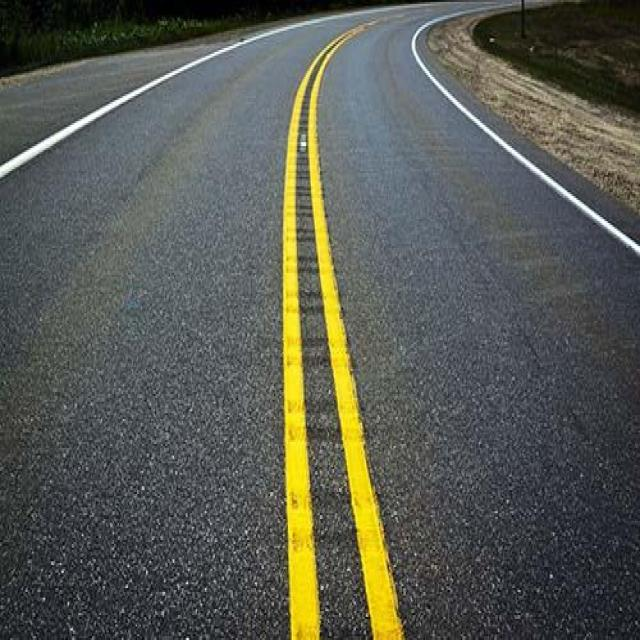undergroundlamp: (300, 128, 308, 154)
